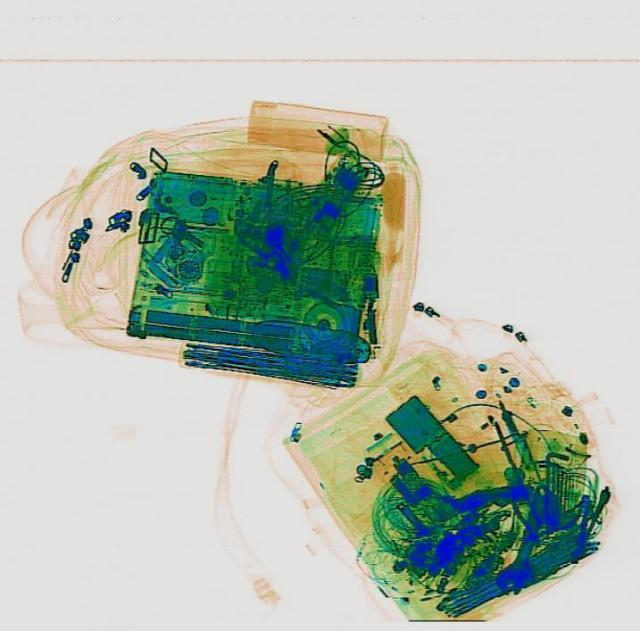Wrench: (492, 478, 560, 599)
